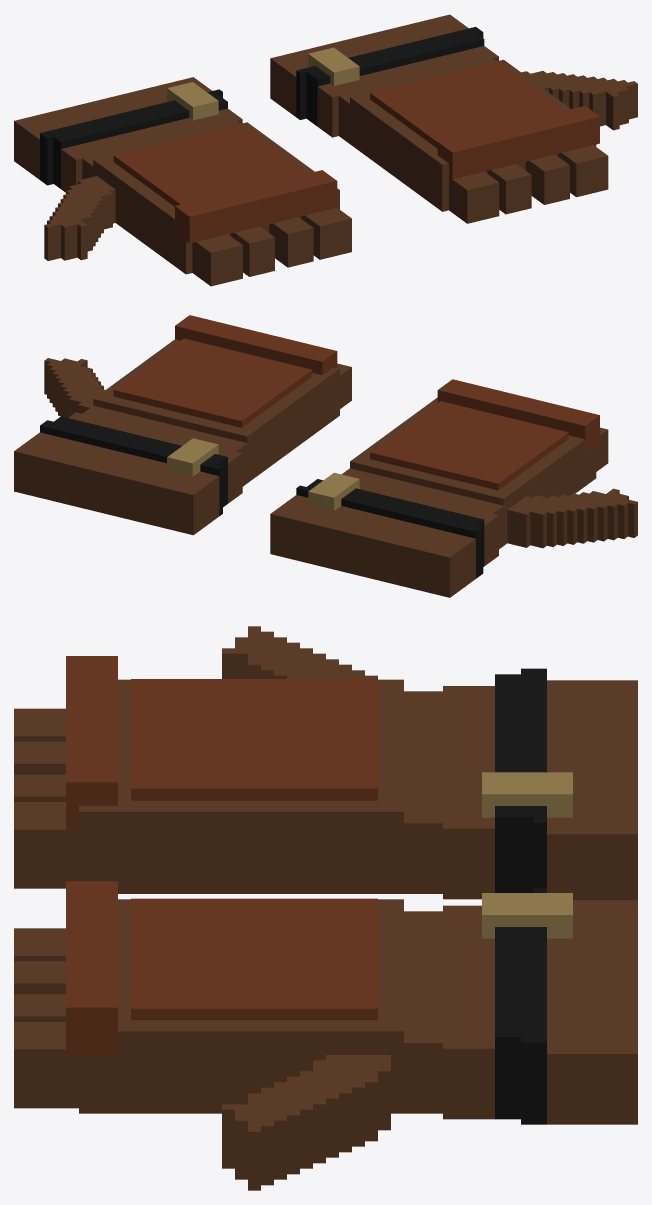
Rendered from gauntlets_larmor.glb.
3 views of the same model, one above another, from view 1: azimuth 30°, elevation 25°; view 2: azimuth 150°, elevation 25°; view 3: azimuth 270°, elevation 25° (orthographic). The views are drawn at different scales.
Visible parts, largest first — view 1: gauntlets_larmor:compound; view 2: gauntlets_larmor:compound; view 3: gauntlets_larmor:compound.
Boxes of the visible parts, <box> form: gauntlets_larmor:compound: <box>14,14,637,286</box>; gauntlets_larmor:compound: <box>14,315,637,597</box>; gauntlets_larmor:compound: <box>14,626,637,1190</box>.
Size of the model in its own units: 0.368 by 0.036 by 0.192.
